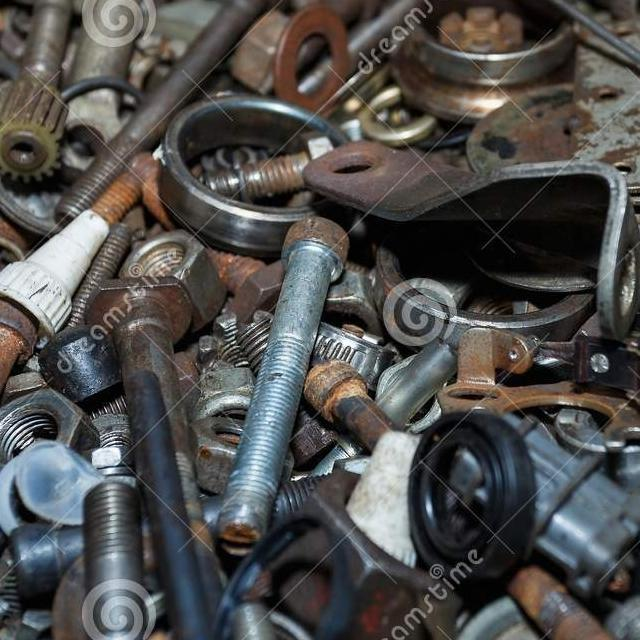metal: (66, 256, 269, 640), (290, 124, 640, 331), (41, 0, 310, 247), (191, 208, 372, 554), (460, 0, 640, 312), (140, 76, 392, 246), (388, 394, 549, 600), (441, 291, 640, 455), (0, 172, 133, 342), (380, 0, 595, 97), (57, 460, 168, 640), (0, 0, 90, 184), (0, 275, 34, 565)
